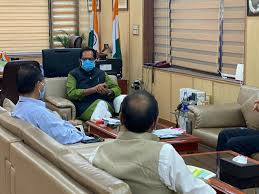mask: (26, 66, 48, 99), (79, 49, 98, 72)
